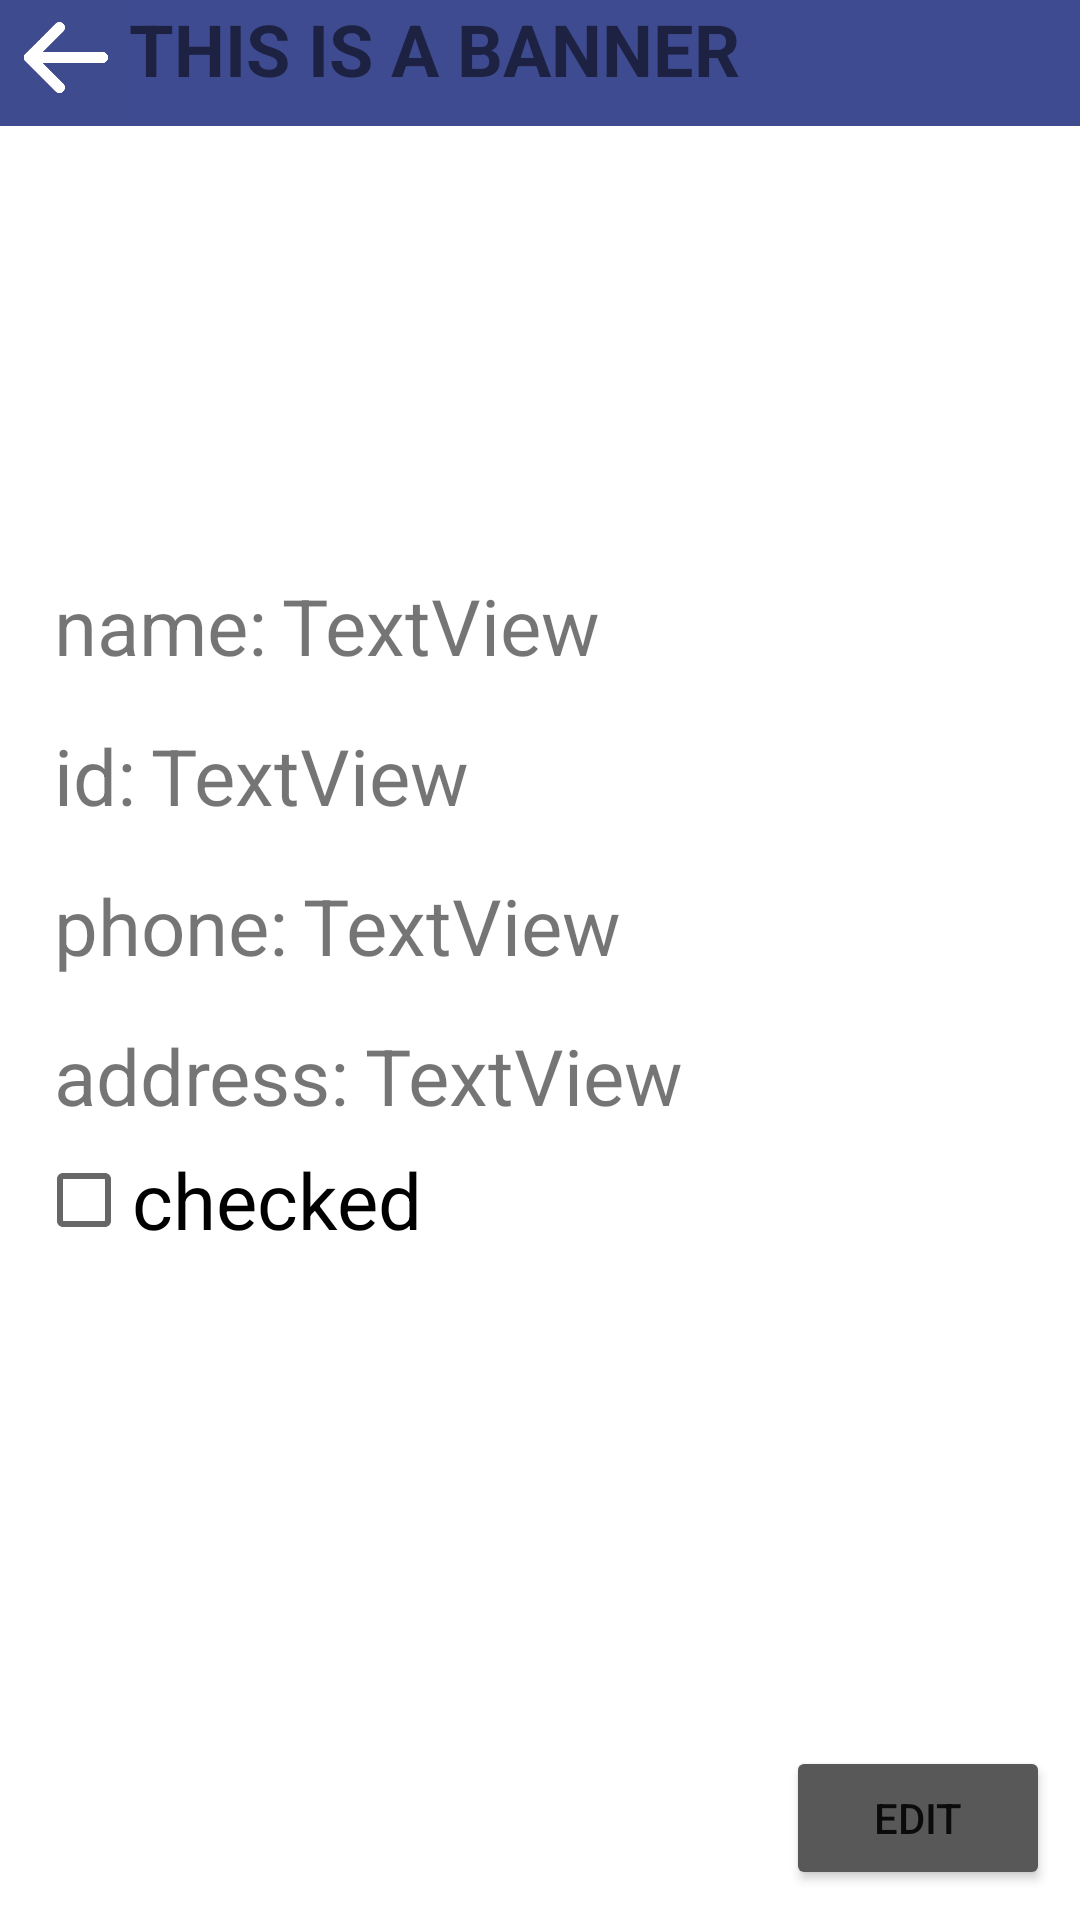

Icon click points for this 1080*1920 phone screenshot, format [x,y]:
back: [66,57]
